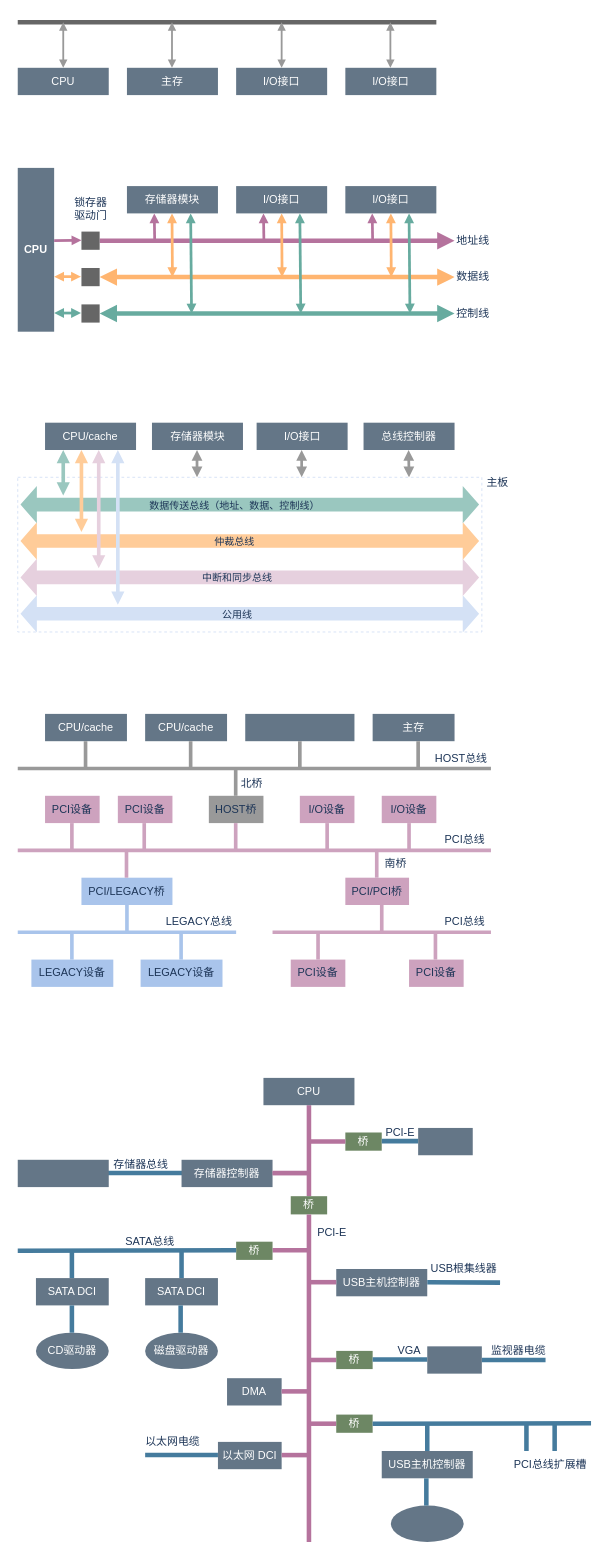
The diagram is 612 pixels wide and 1561 high, and some of its shapes have lost their labels. Each missing label, with the centre of its shape:
"DDR / SDRAM" goes at [62,1173].
"GPU" goes at [445,1141].
"主存与cache控制器" goes at [299,727].
"视频 DCI" goes at [454,1359].
"键盘 / 鼠标" goes at [426,1523].
